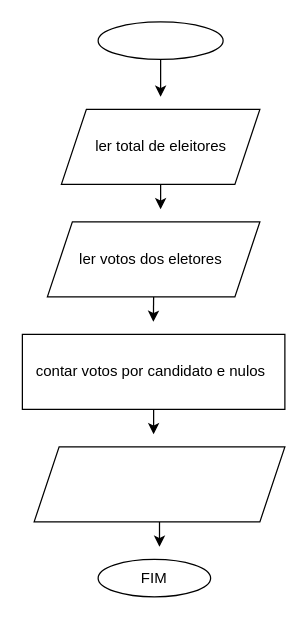
This 306x629 diagram has some shape labels left out. Here are the shapes that lost their labels. From the top down, the centre of each, then its label:
(x=160, y=40): INICIO
(x=159, y=484): exibir resultado da eleição
